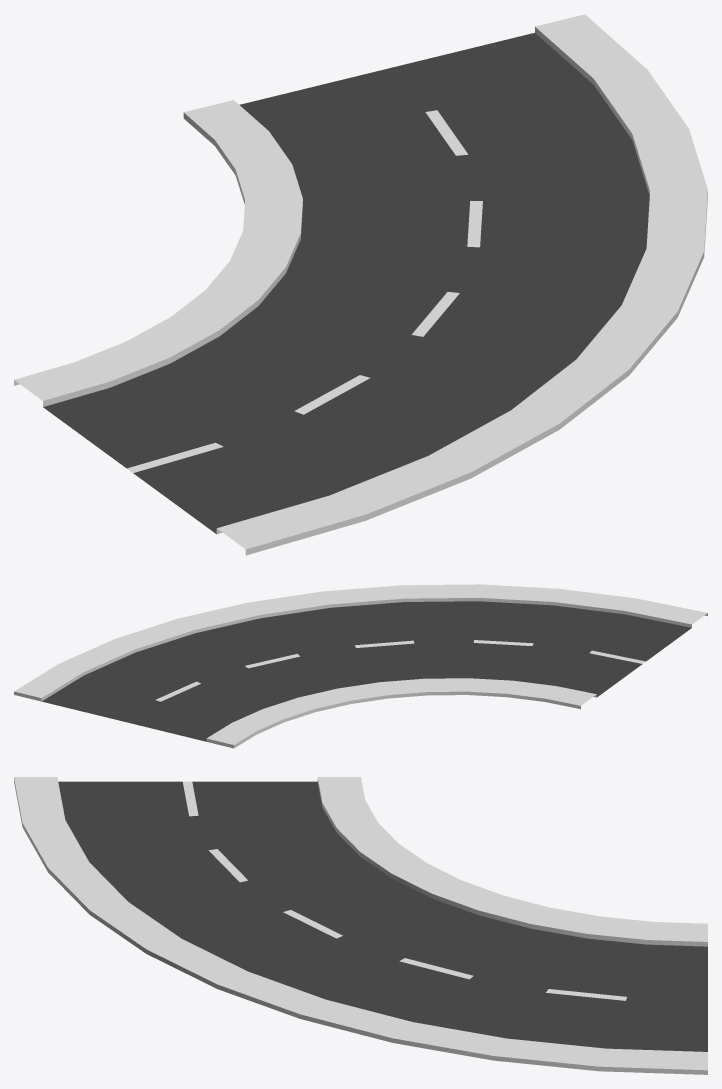
The model's file is two-lane-curved-road-piece.fbx.
The picture shows the model from 3 angles, top to bottom: view 1: azimuth 30°, elevation 25°; view 2: azimuth 150°, elevation 25°; view 3: azimuth 270°, elevation 25°; orthographic projection. The views are drawn at different scales.
Parts seen in each view (by area): view 1: two-lane-curved-road-piece; view 2: two-lane-curved-road-piece; view 3: two-lane-curved-road-piece.
Part boxes in pixels (x1=…): two-lane-curved-road-piece: x1=14, y1=14, x2=707, y2=555; two-lane-curved-road-piece: x1=14, y1=584, x2=707, y2=748; two-lane-curved-road-piece: x1=14, y1=777, x2=707, y2=1074.
Size of the model in its own units: 22.4 by 0.165 by 22.4.
